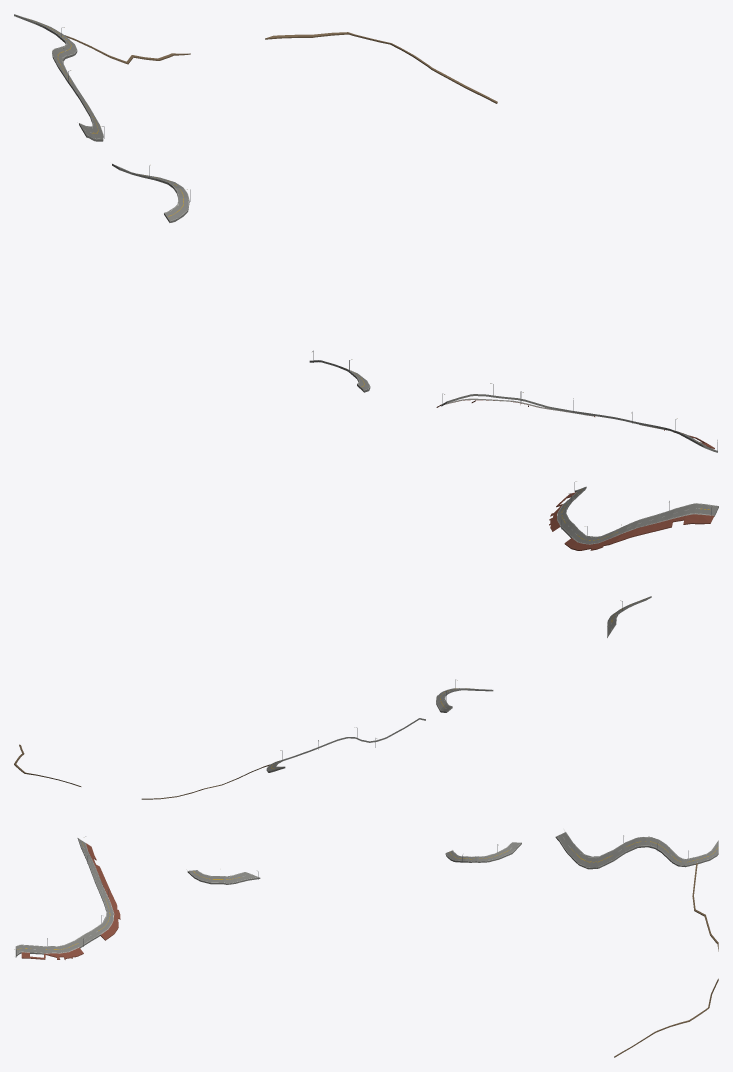
3 views of the same model, one above another, from view 1: azimuth 30°, elevation 25°; view 2: azimuth 150°, elevation 25°; view 3: azimuth 270°, elevation 25° (orthographic). The views are drawn at different scales.
Bounding box in the file's own units: 292 × 79.43 × 585.
